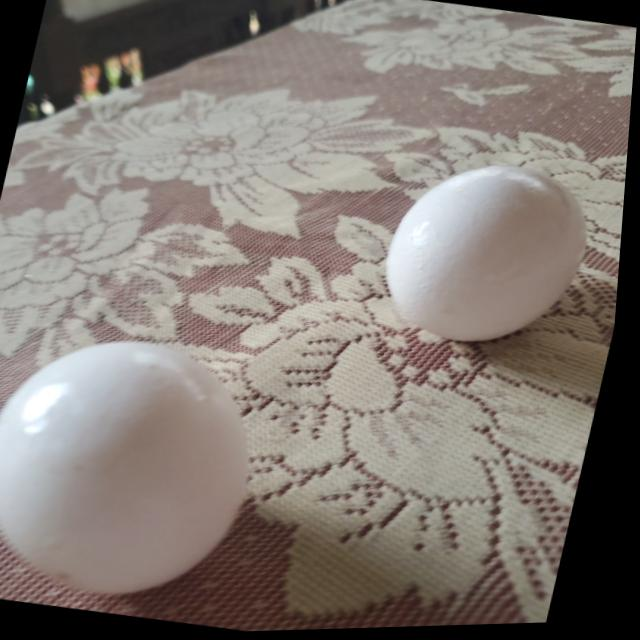egg: (0, 321, 281, 612), (372, 150, 603, 357)
